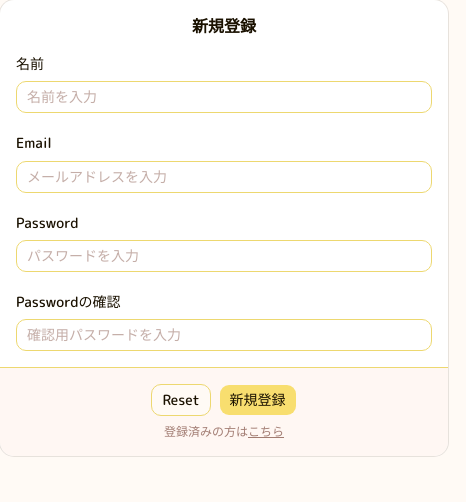
Test case: RegisterForm › パスワードと確認用パスワードが一致しない場合はエラーを表示する
Type "テスト太郎" into the field labelled "名前" at (224, 97), box [16,81,432,113]
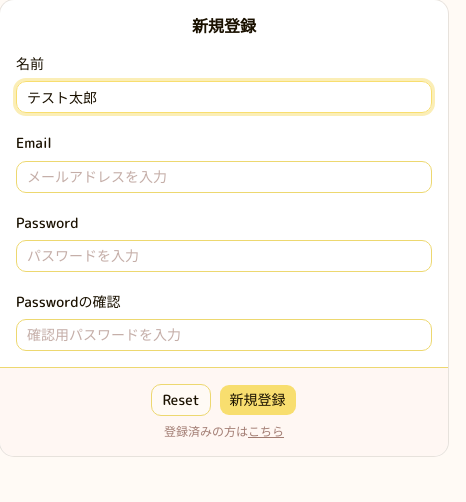
Type "test@example.com" into the field labelled "Email" at (224, 176), box [16,160,432,192]
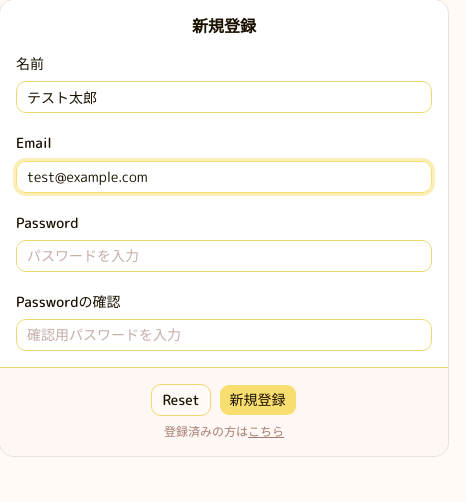
Type "password123" into the password field labelled "Password" at (224, 256), box [16,240,432,272]
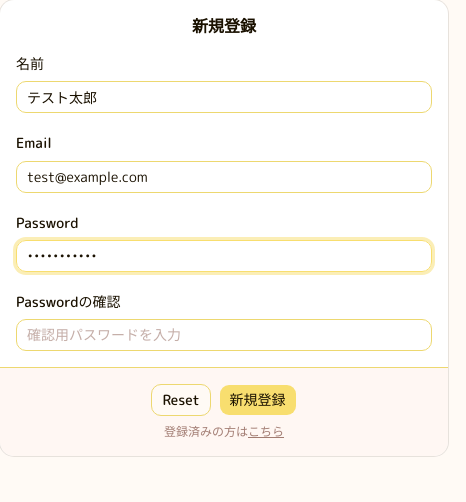
Type "different123" into the password field labelled "Passwordの確認" at (224, 335), box [16,319,432,351]
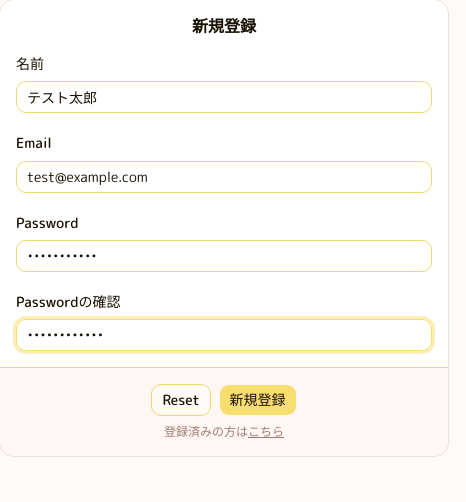
Click the button "新規登録" at (258, 400), box [219,384,297,416]
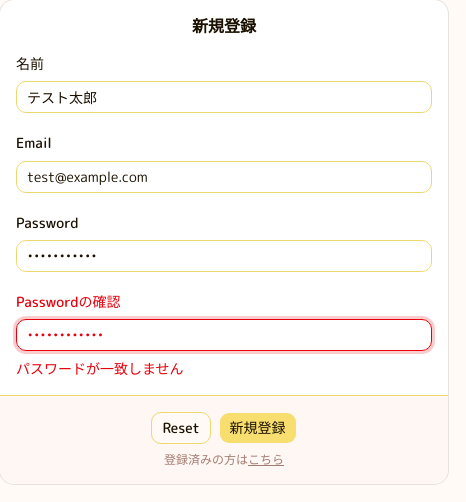
Expected: the text "パスワードが一致しません" is shown, [16,359,184,378]
